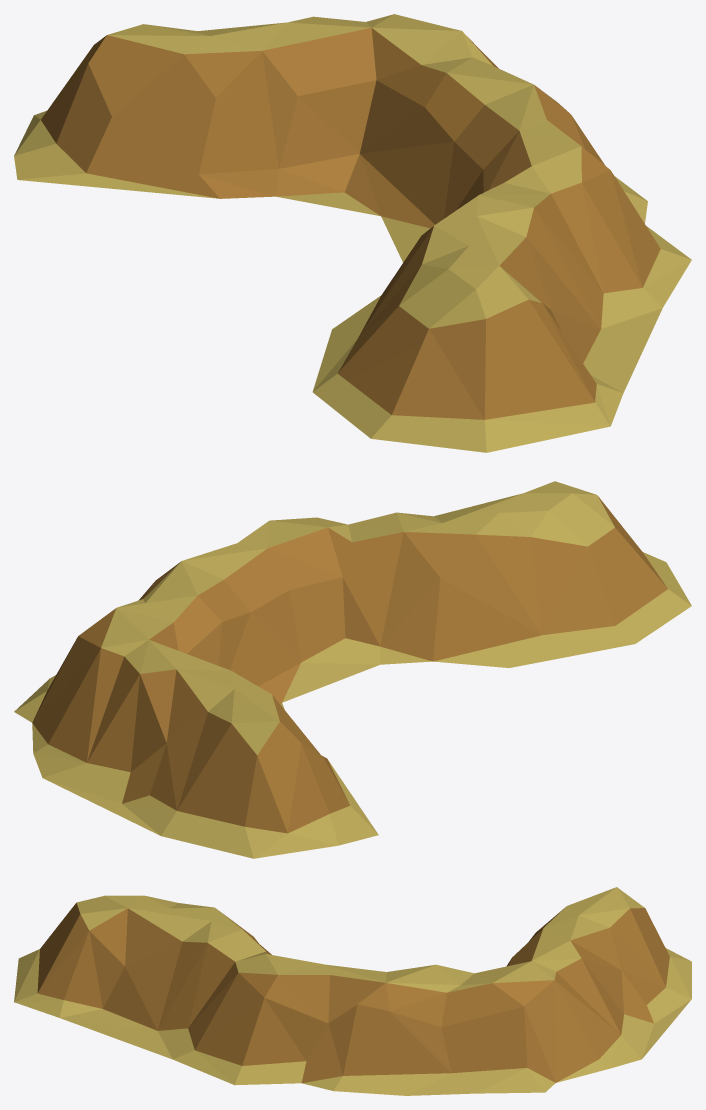
File: SmallMountain1.fbx
3 views of the same model, one above another, from view 1: azimuth 30°, elevation 25°; view 2: azimuth 150°, elevation 25°; view 3: azimuth 270°, elevation 25° (orthographic). The views are drawn at different scales.
Visible parts, largest first — view 1: Terrain_1; view 2: Terrain_1; view 3: Terrain_1.
Part boxes in pixels (x1,y1,x2,y2): Terrain_1: [14, 14, 691, 452]; Terrain_1: [14, 481, 691, 858]; Terrain_1: [14, 887, 691, 1095].
Size of the model in its own units: 1068 by 254 by 1874.
